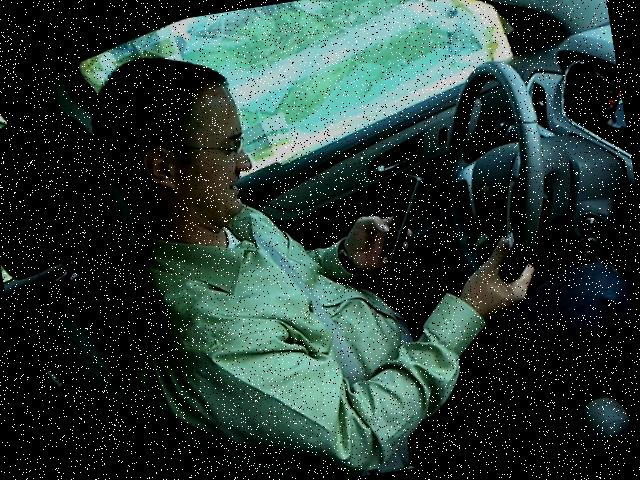c1 - Texting: (69, 0, 593, 479)
